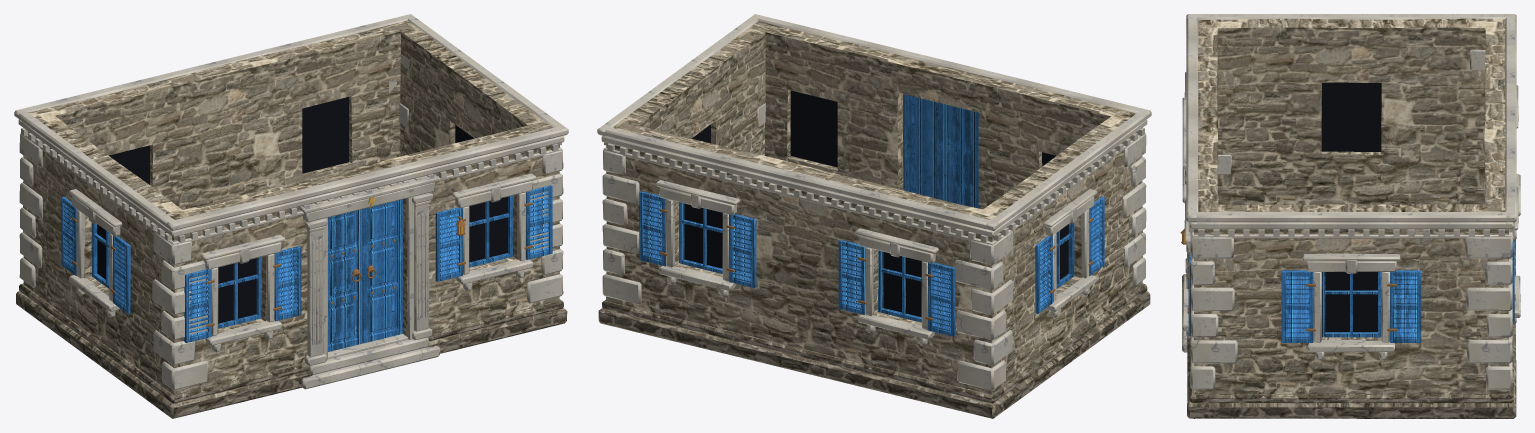
File: home_villa-walls_t1_stone.glb
The picture shows the model from 3 angles, left to right: view 1: azimuth 30°, elevation 25°; view 2: azimuth 150°, elevation 25°; view 3: azimuth 270°, elevation 25°; orthographic projection. The views are drawn at different scales.
Parts seen in each view (by area): view 1: wall, marble, wood, base, interior, bronze; view 2: wall, marble, wood, base, interior; view 3: wall, marble, base, interior, wood.
Part boxes in pixels (box(x1,y1,x2,y2)): wall: box(23, 20, 559, 394); marble: box(14, 14, 568, 390); wood: box(61, 185, 552, 351); base: box(16, 283, 567, 418); interior: box(97, 97, 507, 323); bronze: box(72, 202, 532, 326); wall: box(606, 21, 1142, 394); marble: box(597, 14, 1151, 390); wood: box(639, 94, 1104, 336); base: box(598, 283, 1150, 418); interior: box(684, 90, 1068, 317); wall: box(1193, 18, 1509, 394); marble: box(1182, 14, 1520, 389); base: box(1187, 240, 1516, 418); interior: box(1321, 82, 1381, 331); wood: box(1188, 240, 1514, 342).
Size of the model in its own units: 6.5 by 3.01 by 4.53.
8 materials, 4 textured.
